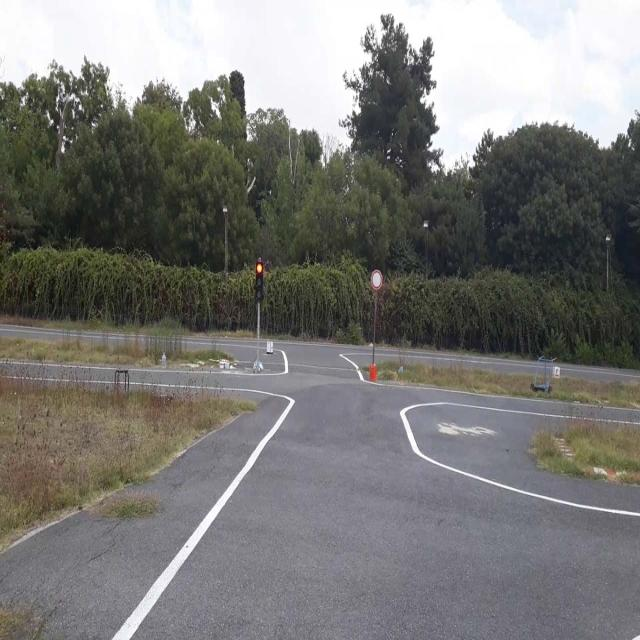kirmizi: (255, 262, 262, 300)
